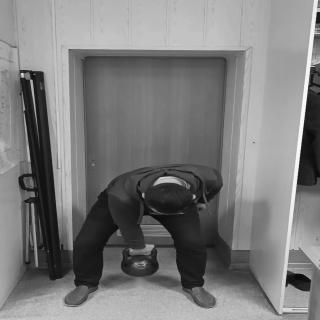kettlebell: (123, 247, 161, 278)
